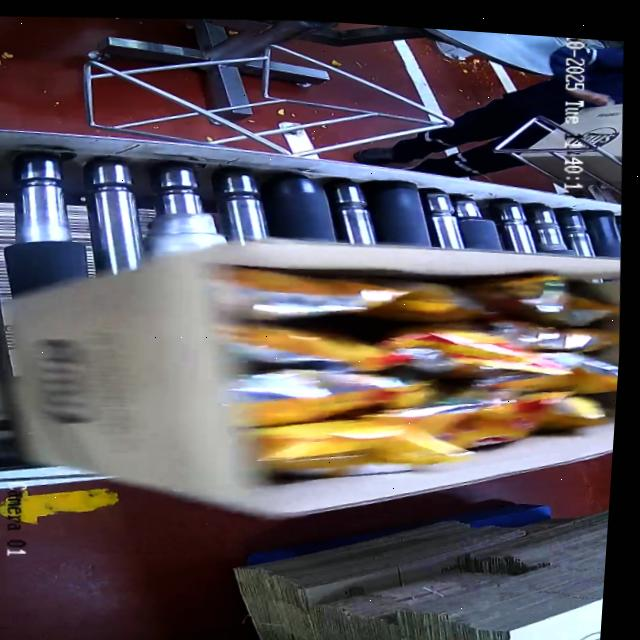FRENCH_CHEESE: (223, 243, 625, 488)
